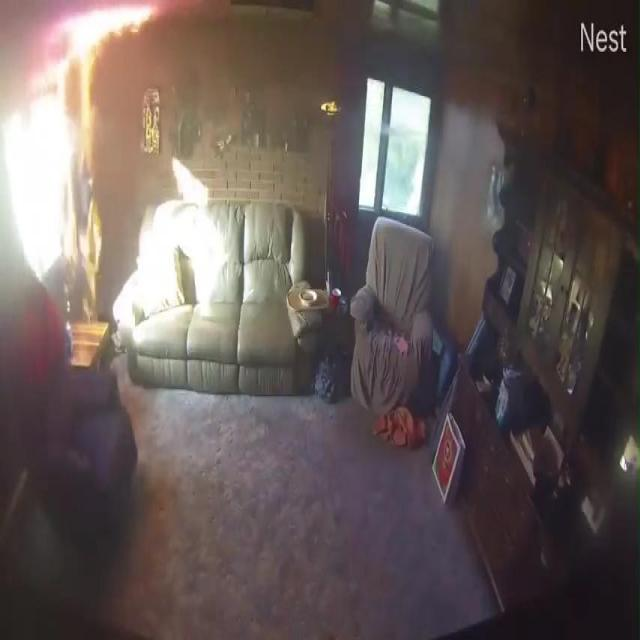smoke: (54, 72, 106, 312), (34, 4, 158, 72)
